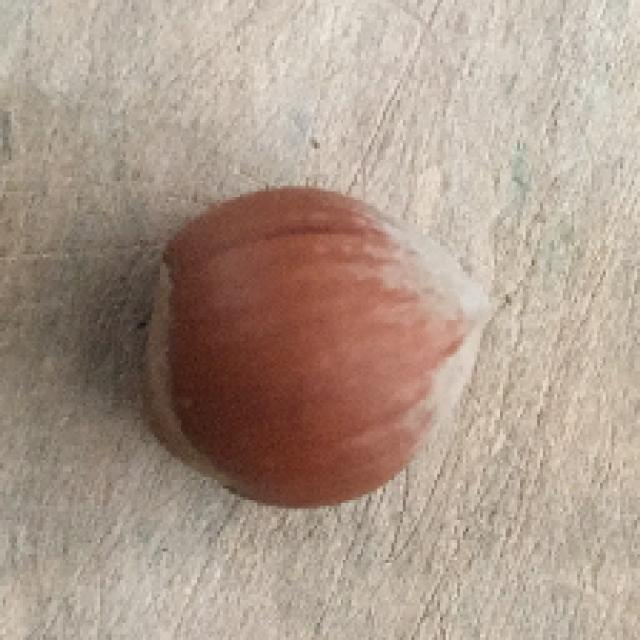qualityHazelnut: (144, 183, 496, 510)
